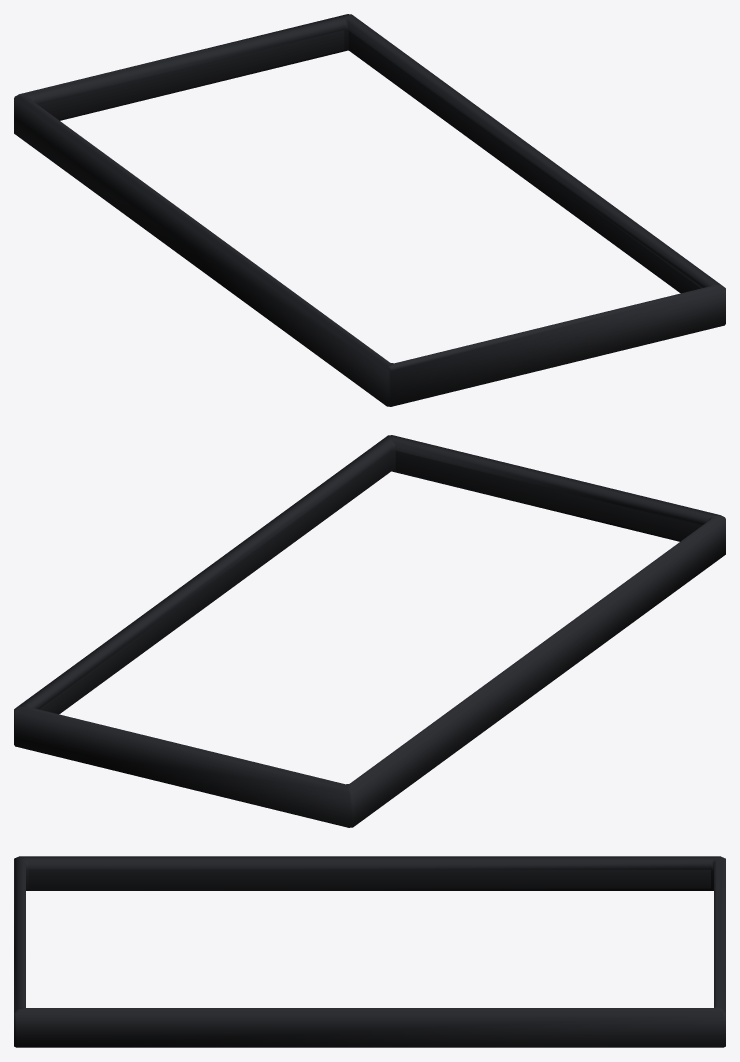
Rendered from Monitor_7.fbx.
3 views of the same model, one above another, from view 1: azimuth 30°, elevation 25°; view 2: azimuth 150°, elevation 25°; view 3: azimuth 270°, elevation 25° (orthographic). The views are drawn at different scales.
Parts seen in each view (by area): view 1: Monitor_7; view 2: Monitor_7; view 3: Monitor_7.
Part boxes in pixels (x1,y1,x2,y2): Monitor_7: (14,14,725,406); Monitor_7: (14,435,725,827); Monitor_7: (14,856,725,1047).
Size of the model in its own units: 9.3 by 1 by 17.85.
